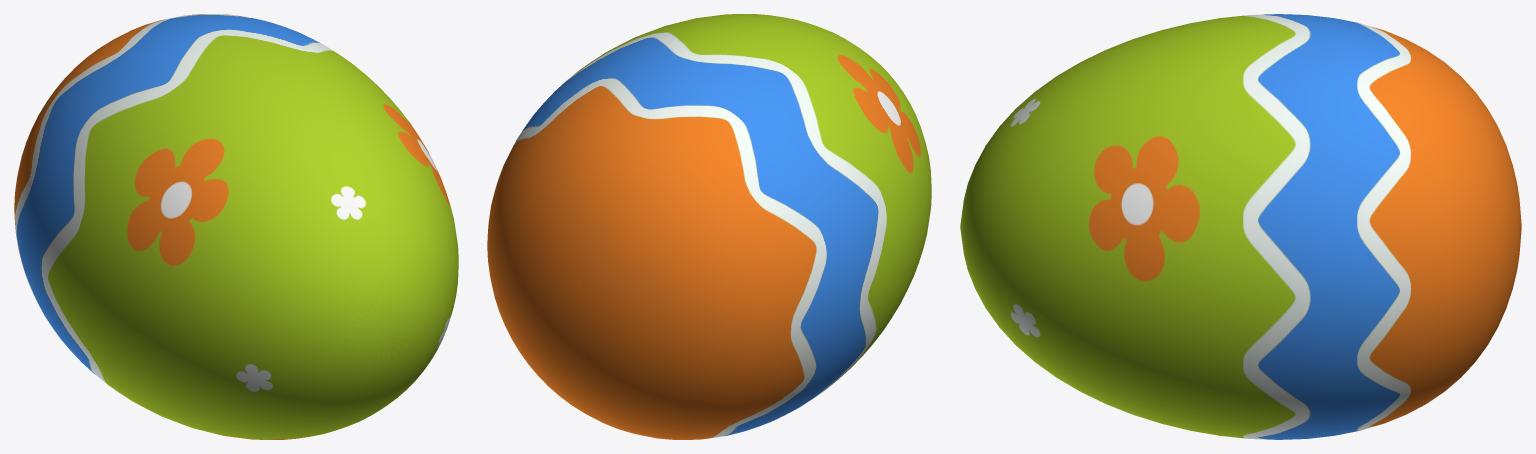
The model's file is 12172_Egg_v1_l2.obj.
The picture shows the model from 3 angles, left to right: view 1: azimuth 30°, elevation 25°; view 2: azimuth 150°, elevation 25°; view 3: azimuth 270°, elevation 25°; orthographic projection. The views are drawn at different scales.
Visible parts, largest first — view 1: 12172_egg; view 2: 12172_egg; view 3: 12172_egg.
Boxes of the visible parts, box(x1,y1,x2,y2) form: 12172_egg: box(14, 14, 458, 439); 12172_egg: box(487, 14, 931, 439); 12172_egg: box(960, 14, 1521, 439).
Bounding box in the file's own units: 46.12 × 46.12 × 60.74.
Materials: 1 (1 with a texture image).
